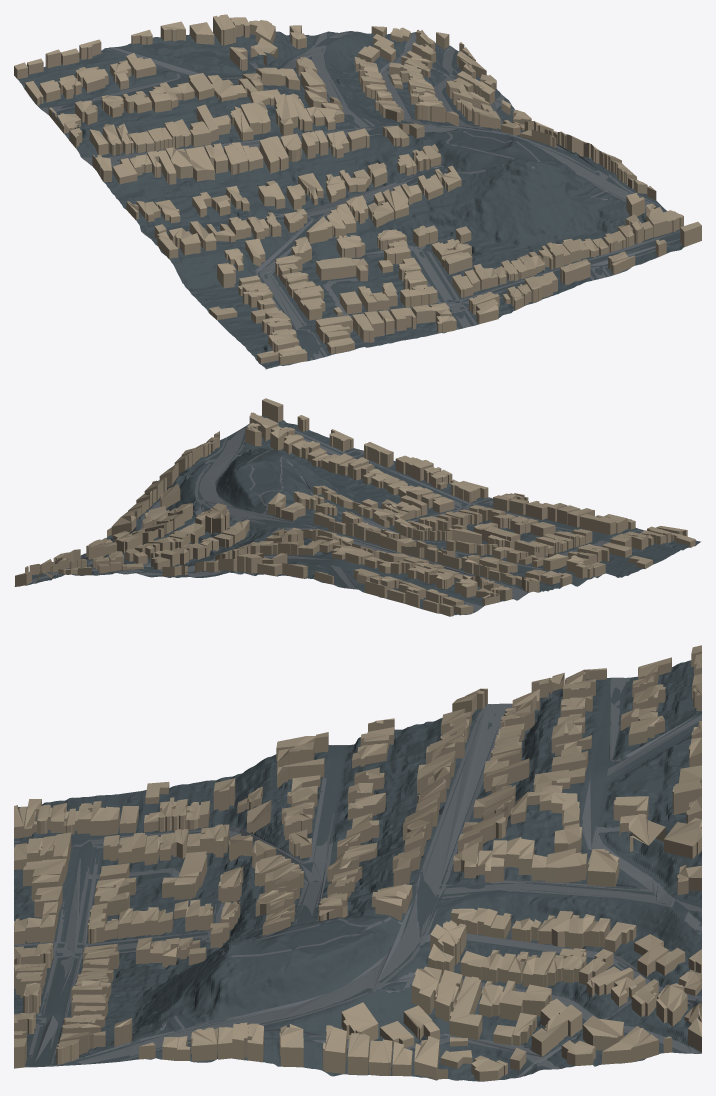
The model's file is epsg26910-1428-10883.lod0.glb.
3 views of the same model, one above another, from view 1: azimuth 30°, elevation 25°; view 2: azimuth 150°, elevation 25°; view 3: azimuth 270°, elevation 25° (orthographic). The views are drawn at different scales.
Parts seen in each view (by area): view 1: epsg26910-1428-10883-lod0; view 2: epsg26910-1428-10883-lod0; view 3: epsg26910-1428-10883-lod0.
Boxes of the visible parts, bbox=[...] form: epsg26910-1428-10883-lod0: bbox=[14, 14, 701, 369]; epsg26910-1428-10883-lod0: bbox=[14, 398, 700, 616]; epsg26910-1428-10883-lod0: bbox=[14, 645, 701, 1081].
Size of the model in its own units: 384 by 111 by 384.
